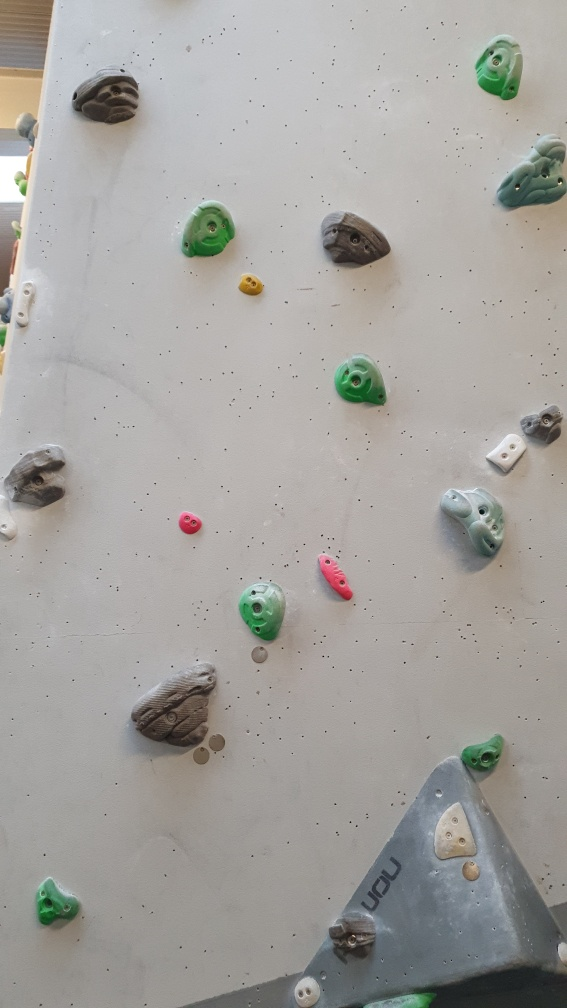Crimp: (321, 554, 359, 604), (487, 427, 524, 474), (14, 281, 39, 331)
Hand Start: (203, 727, 227, 753), (247, 642, 272, 665), (188, 747, 212, 767), (458, 859, 479, 881)
Jug: (130, 661, 221, 749), (496, 130, 567, 207), (4, 438, 78, 511), (436, 481, 505, 559), (319, 209, 392, 274), (73, 66, 141, 125), (235, 580, 291, 644), (179, 198, 238, 257), (475, 35, 526, 99), (333, 352, 390, 407), (461, 730, 508, 776)
Pinch: (237, 266, 266, 296), (176, 510, 203, 536)
